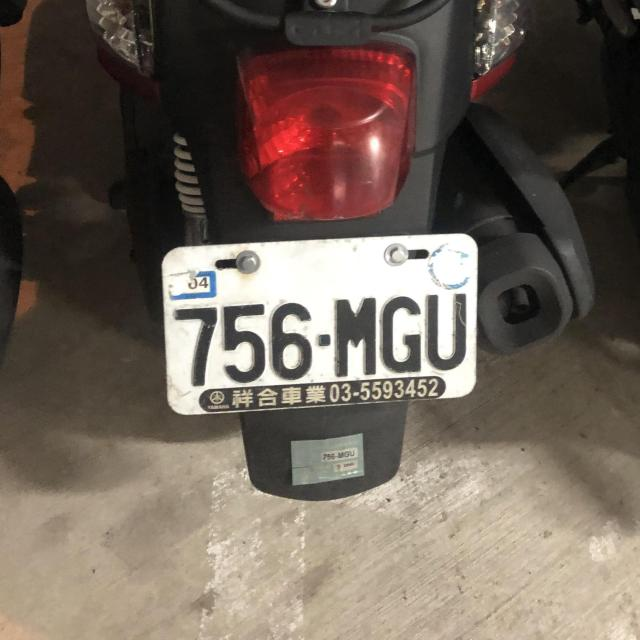W: (150, 224, 488, 422)
